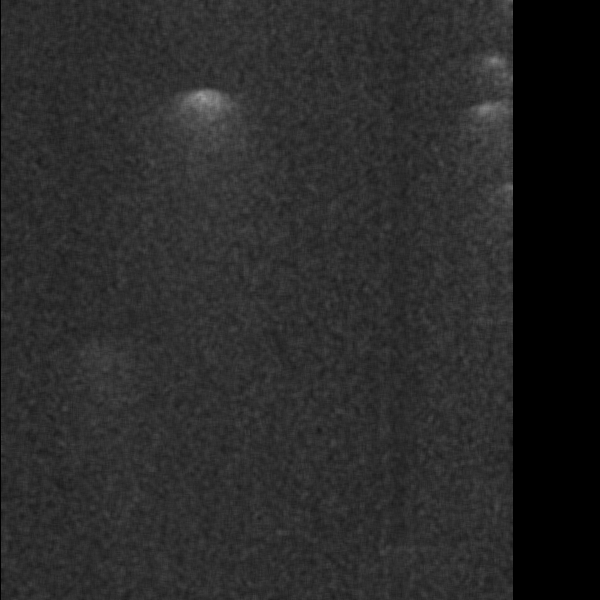spark: (171, 84, 232, 157)
